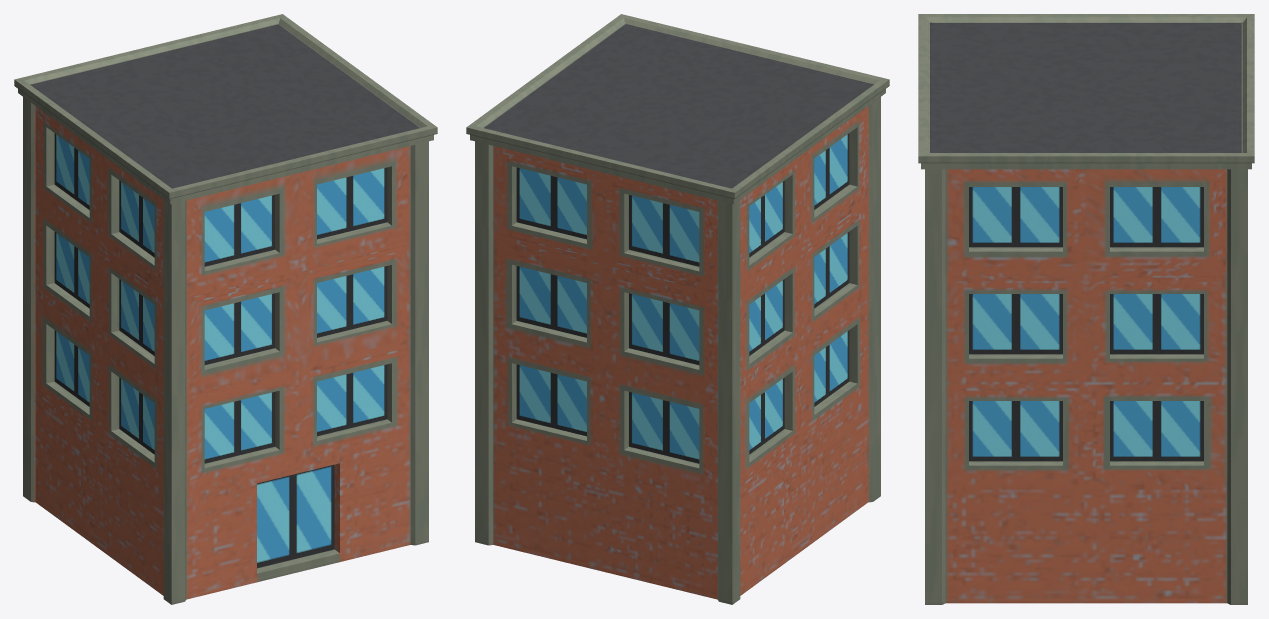
Rendered from BrickBuildingShort.fbx.
3 renders of one model, left to right at view 1: azimuth 30°, elevation 25°; view 2: azimuth 150°, elevation 25°; view 3: azimuth 270°, elevation 25°, orthographic. The views are drawn at different scales.
Parts seen in each view (by area): view 1: BrickBuildingShort; view 2: BrickBuildingShort; view 3: BrickBuildingShort.
Part boxes in pixels (x1,y1,x2,y2): BrickBuildingShort: (14,14,437,604); BrickBuildingShort: (466,14,889,604); BrickBuildingShort: (918,14,1254,604).
Bounding box in the file's own units: 642 × 950 × 642.
